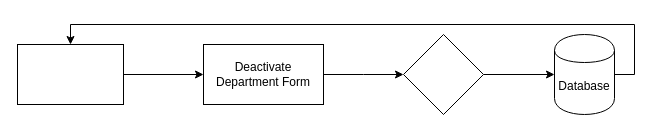
This 660x132 diagram has some shape labels left out. The centre of each missing label's shape, as x and y in pixels:
"Department List" belongs at (70,74).
"Validation" belongs at (443,74).
